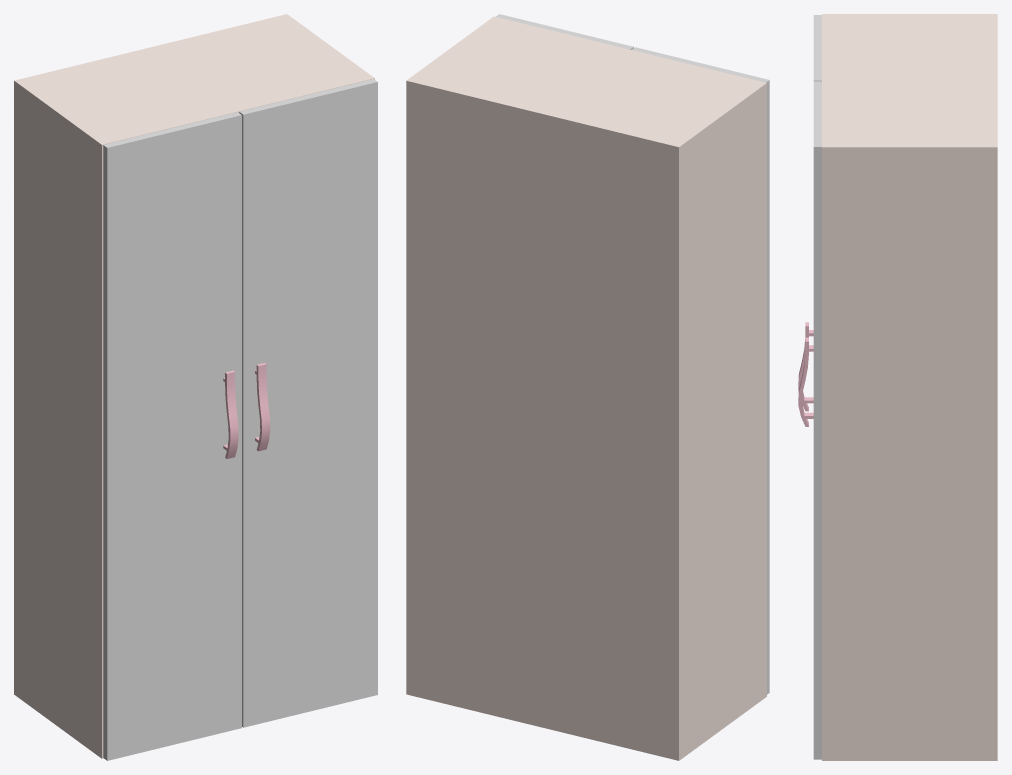
File: wardrobe2_K.fbx
3 renders of one model, left to right at view 1: azimuth 30°, elevation 25°; view 2: azimuth 150°, elevation 25°; view 3: azimuth 270°, elevation 25°, orthographic.
Parts seen in each view (by area): view 1: polySurface15, polySurface1, polySurface17; view 2: polySurface1, polySurface15; view 3: polySurface1, polySurface15, polySurface17.
Part boxes in pixels (x1,y1,x2,y2): polySurface15: [103, 79, 377, 760]; polySurface1: [14, 14, 374, 758]; polySurface17: [223, 363, 270, 458]; polySurface1: [406, 16, 766, 760]; polySurface15: [496, 14, 769, 694]; polySurface1: [822, 14, 997, 760]; polySurface15: [813, 15, 821, 759]; polySurface17: [798, 322, 813, 426].
Bounding box in the file's own units: 86.71 × 188 × 54.85.
